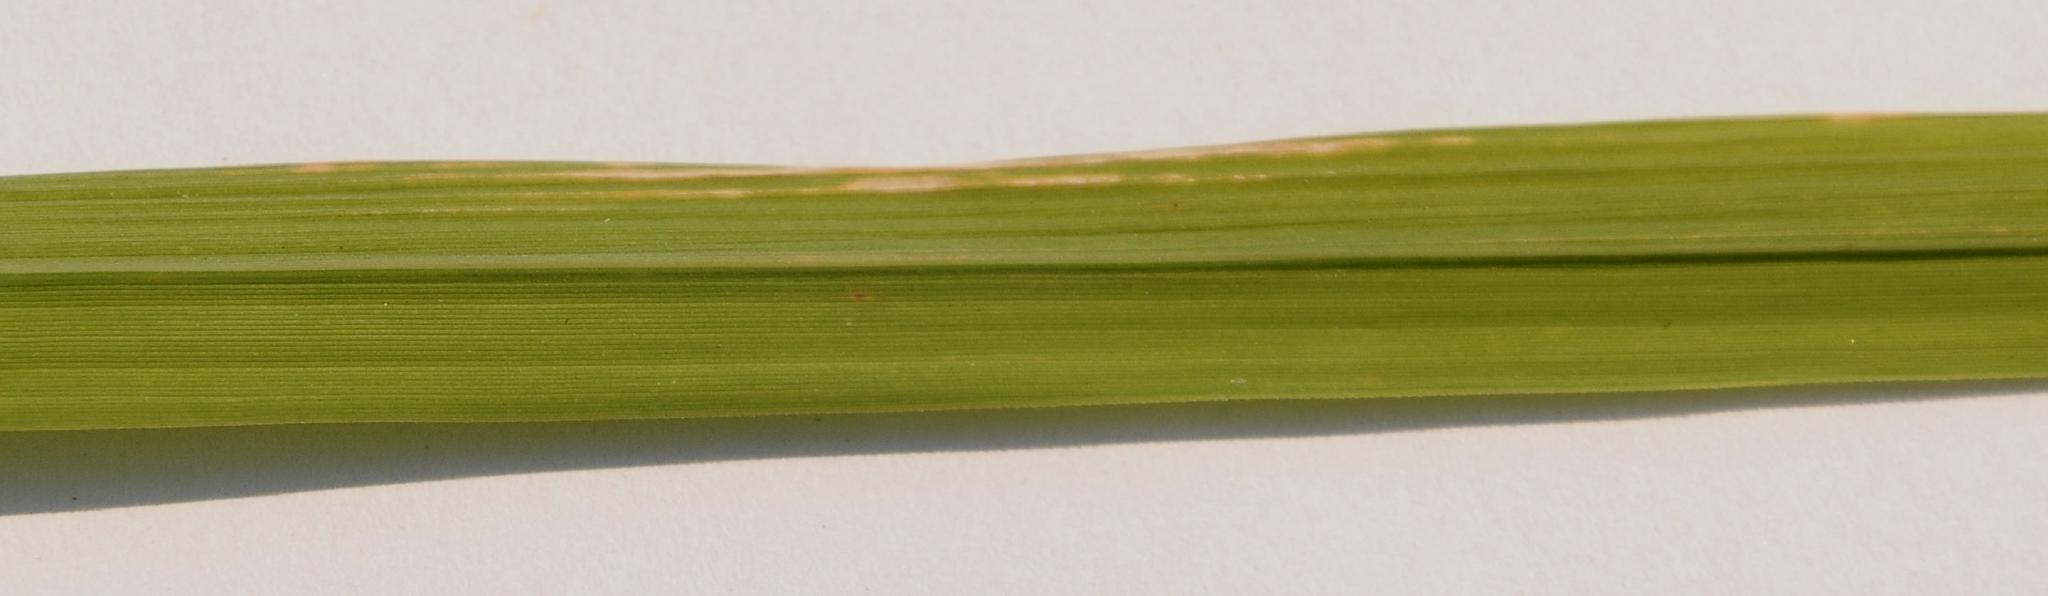2 BacterialBlight: (222, 120, 1665, 189)
